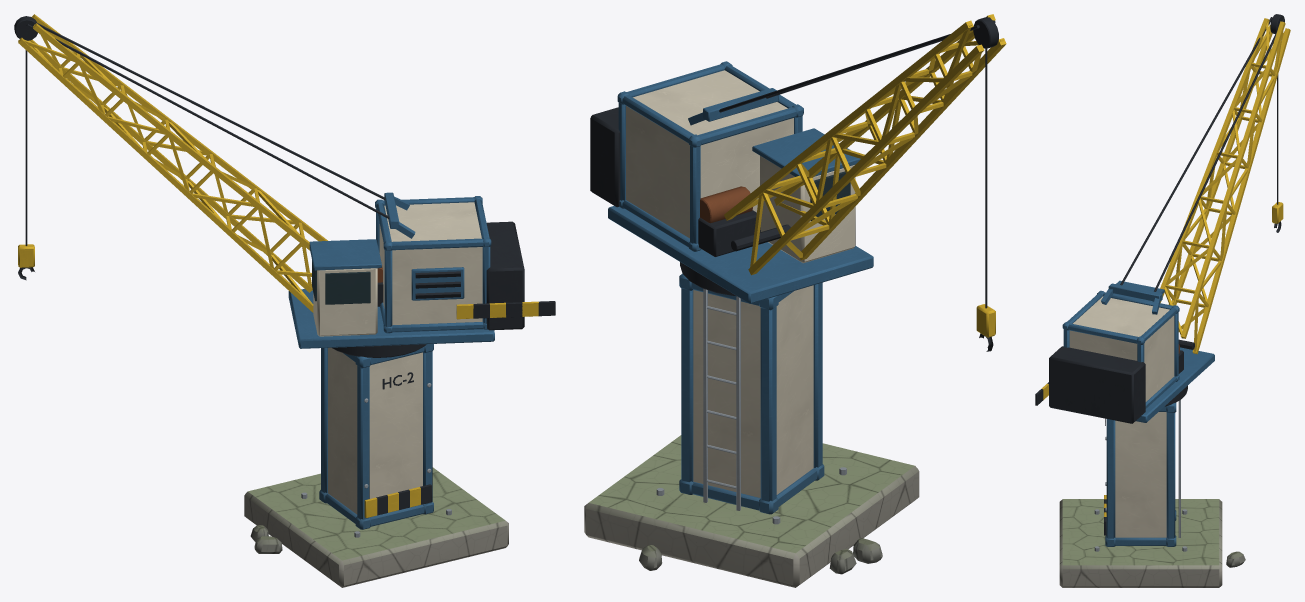
Rendered from harbour_crane_small.glb.
The picture shows the model from 3 angles, left to right: view 1: azimuth 30°, elevation 25°; view 2: azimuth 150°, elevation 25°; view 3: azimuth 270°, elevation 25°; orthographic projection. The views are drawn at different scales.
Parts seen in each view (by area): view 1: harbour_crane_small; view 2: harbour_crane_small; view 3: harbour_crane_small.
Part boxes in pixels (x1,y1,x2,y2): harbour_crane_small: (14,14,555,587); harbour_crane_small: (584,14,1006,587); harbour_crane_small: (1035,14,1290,587).
Bounding box in the file's own units: 6.3 × 7.63 × 4.08.
Materials: 14 (14 with a texture image).
